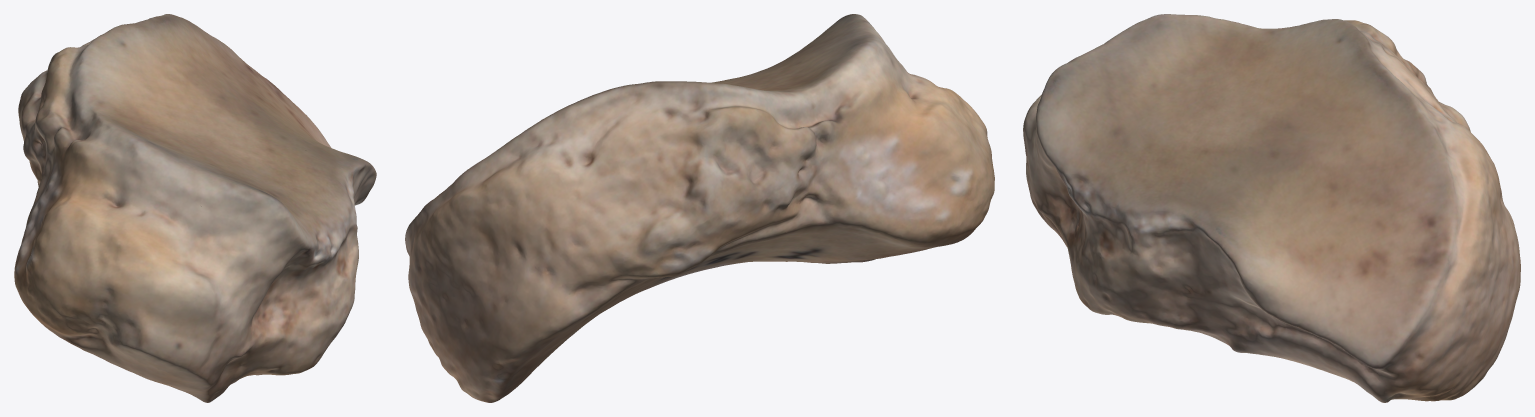
3 renders of one model, left to right at view 1: azimuth 30°, elevation 25°; view 2: azimuth 150°, elevation 25°; view 3: azimuth 270°, elevation 25°, orthographic. The views are drawn at different scales.
Parts seen in each view (by area): view 1: Node; view 2: Node; view 3: Node.
Boxes of the visible parts, x1,y1,x2,y2 form: Node: [14, 14, 376, 402]; Node: [405, 14, 994, 402]; Node: [1023, 14, 1520, 402].
Bounding box in the file's own units: 33.07 × 22.07 × 34.02.
1 material, 1 textured.
